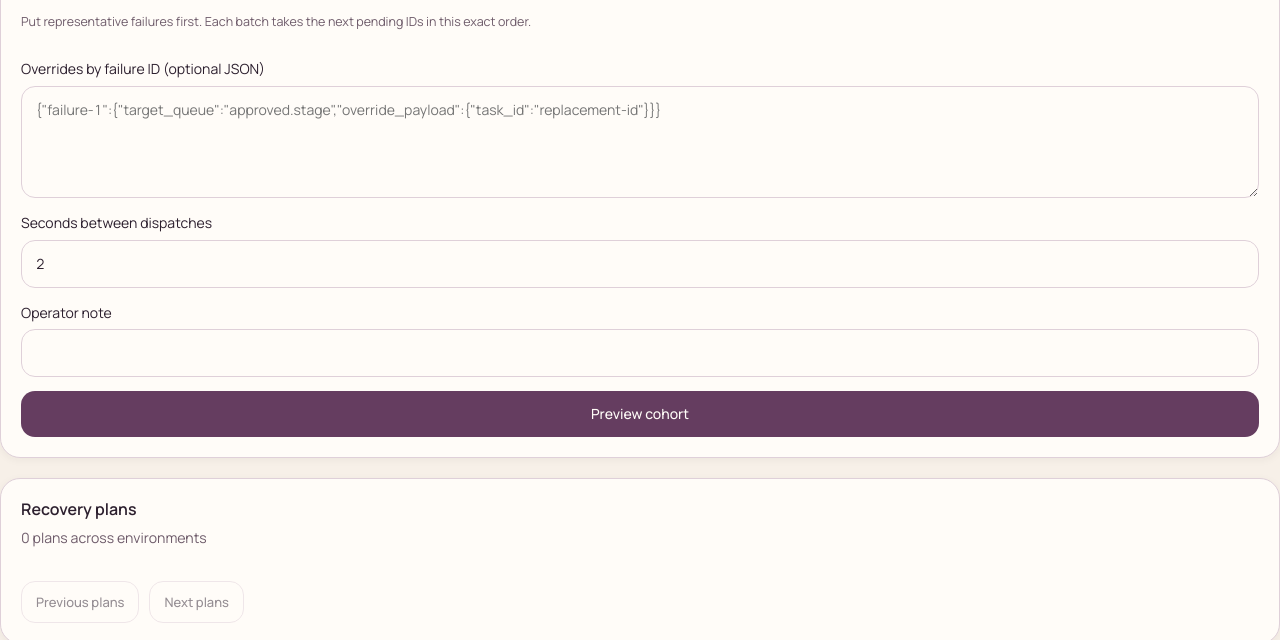
Scenario: Recovery Center › shows missing payloads and blocks saving an ineligible cohort
(page scrolled)
What coordinates should you click on to do the following:
click the button "Preview cohort"
I would click on:
 (640, 414)
Its box is left=21, top=391, right=1259, bottom=437.
(page scrolled)
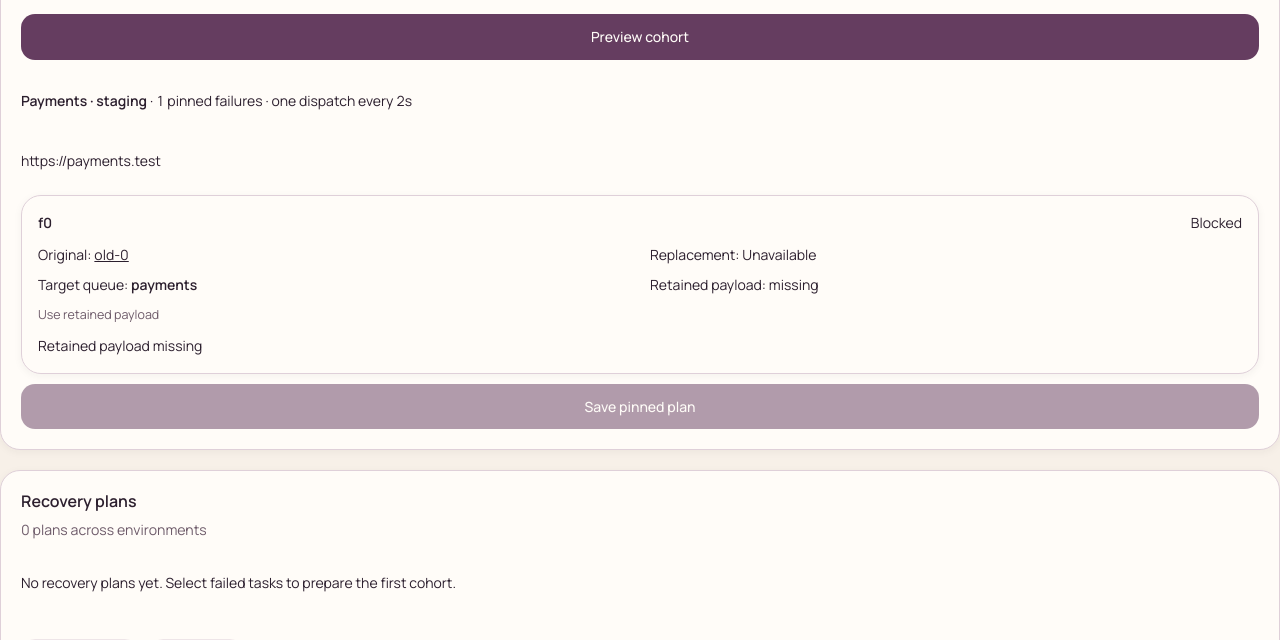
Now the text "Retained payload missing" is shown, box left=38, top=336, right=202, bottom=355
Now the button "Save pinned plan" is disabled, box left=21, top=384, right=1259, bottom=429
Now the text "Retained payload: missing" is shown, box left=650, top=275, right=819, bottom=294
